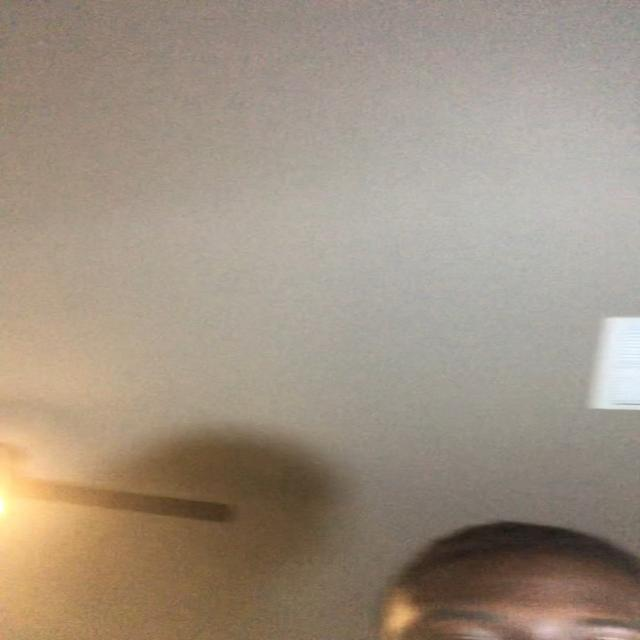face: (373, 541, 640, 640)
